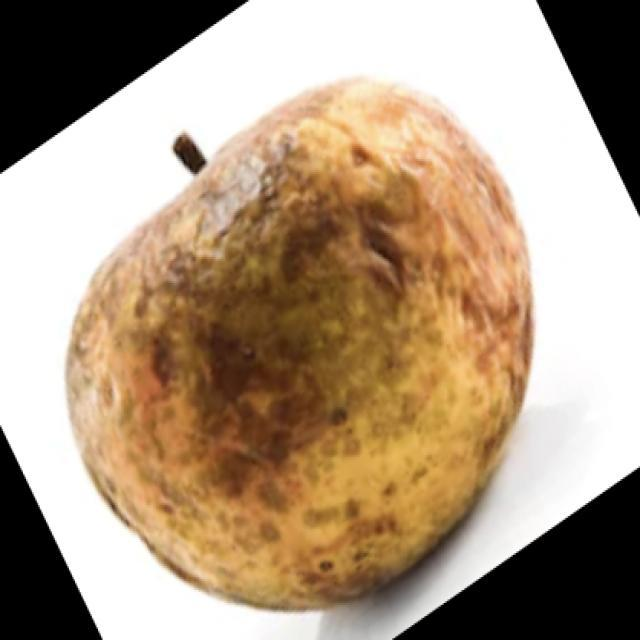Rotten: (88, 99, 525, 598)
